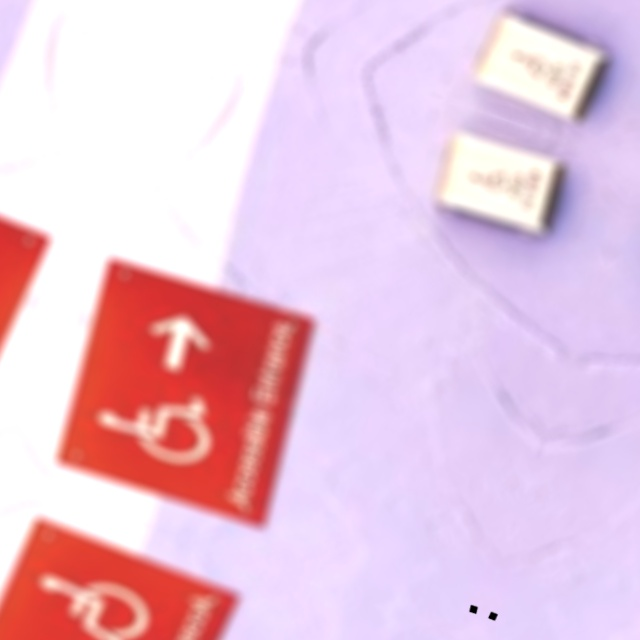ISA: (79, 359, 235, 479), (11, 554, 166, 640), (457, 153, 521, 204), (498, 38, 562, 88)
